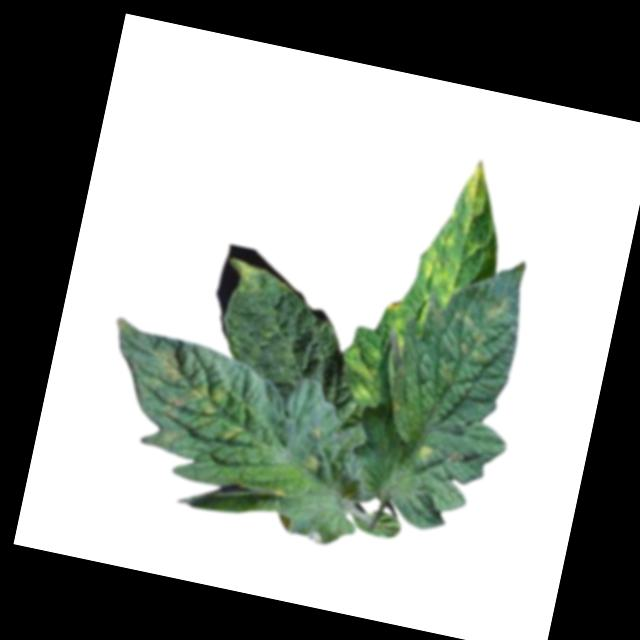Leaf_Mold: (182, 378, 258, 446), (415, 226, 471, 301), (459, 156, 498, 221), (224, 257, 270, 287), (408, 438, 434, 465), (302, 447, 324, 475), (385, 292, 408, 315)
